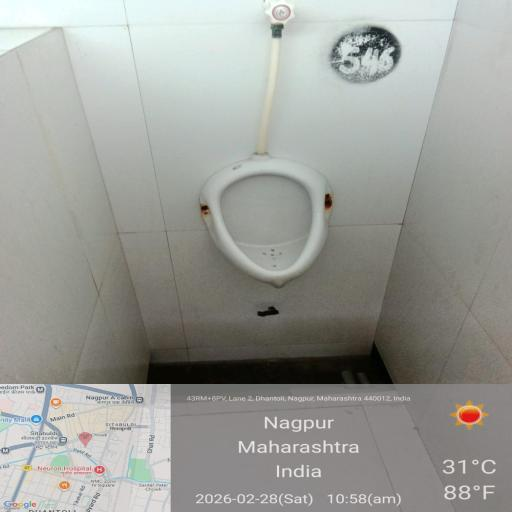clean_floor: (57, 26, 448, 152)
clean_urinal: (205, 156, 355, 298)
partial_dirty_floor: (48, 327, 512, 512)
